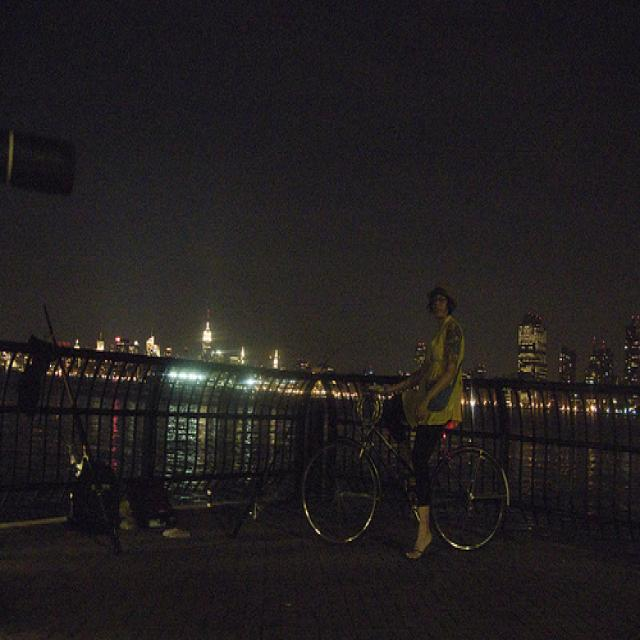Bicycle: (287, 402, 532, 581)
People: (405, 262, 478, 576)
